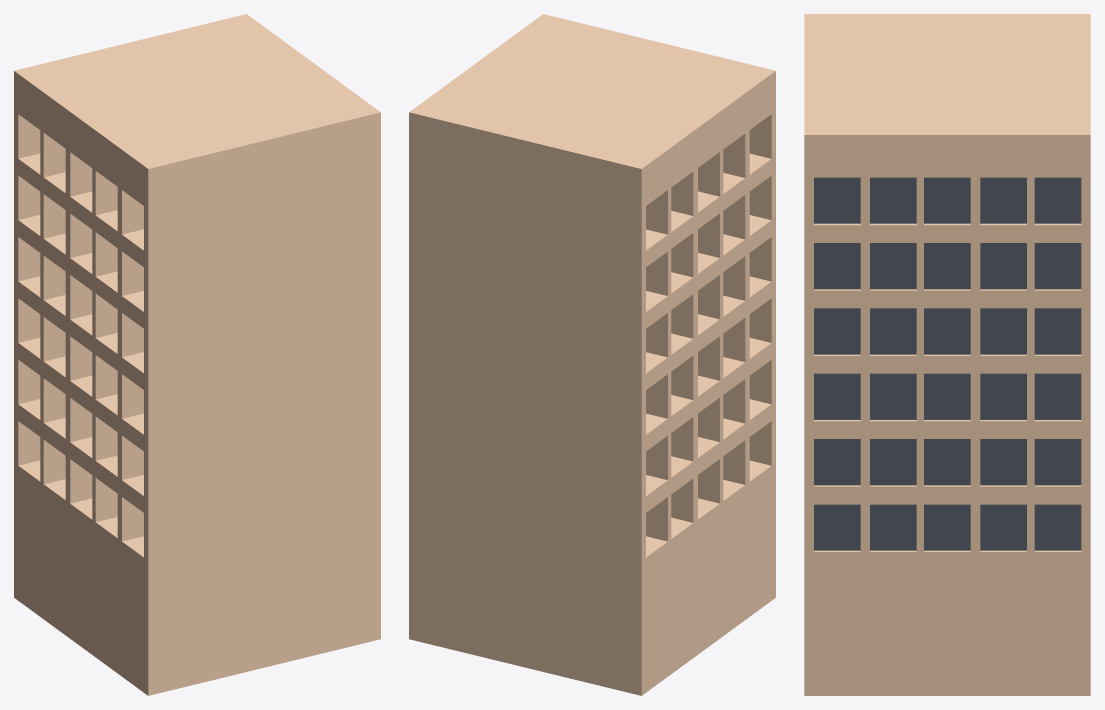
The picture shows the model from 3 angles, left to right: view 1: azimuth 30°, elevation 25°; view 2: azimuth 150°, elevation 25°; view 3: azimuth 270°, elevation 25°; orthographic projection. The views are drawn at different scales.
Visible parts, largest first — view 1: polySurface1; view 2: polySurface1; view 3: polySurface1, pCube62.
Boxes of the visible parts, x1,y1,x2,y2 form: polySurface1: (14,14,380,695); polySurface1: (409,14,775,695); polySurface1: (804,14,1090,695); pCube62: (814,177,1081,550).
Size of the model in its own units: 38.91 by 84.2 by 38.91.
